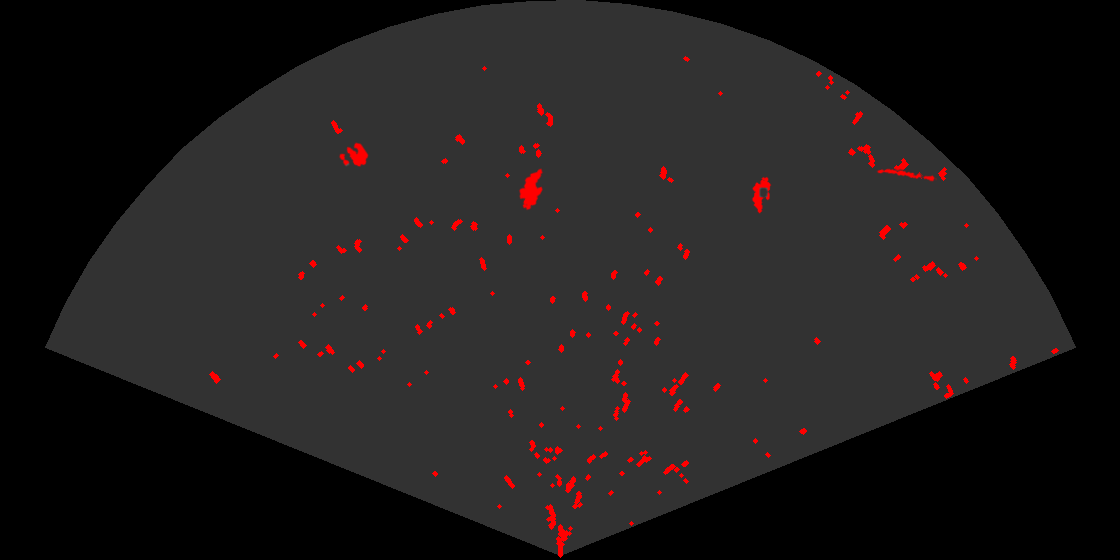AUV: (517, 167, 545, 212), (751, 175, 773, 215)
ball: (337, 141, 370, 168)
chain: (876, 167, 937, 183)
